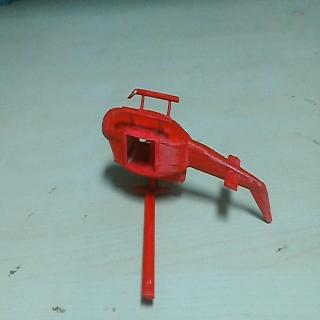Helicopter: (102, 86, 274, 301)
